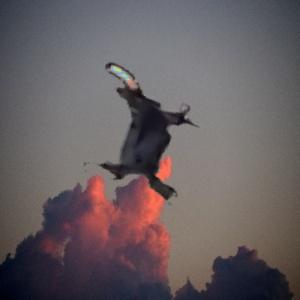drone: (70, 64, 216, 210)
